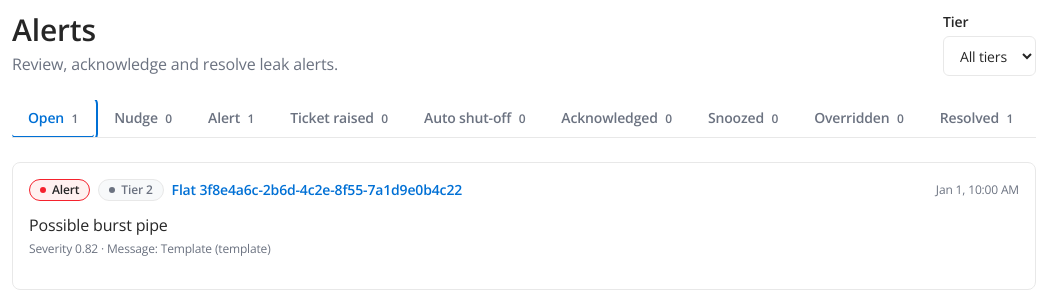
Test case: AlertsView › has an accessible tablist with arrow-key navigation and a labelled tabpanel
Expected: the text "Possible burst pipe" is shown, left=29, top=214, right=168, bottom=236
Press Arrowright
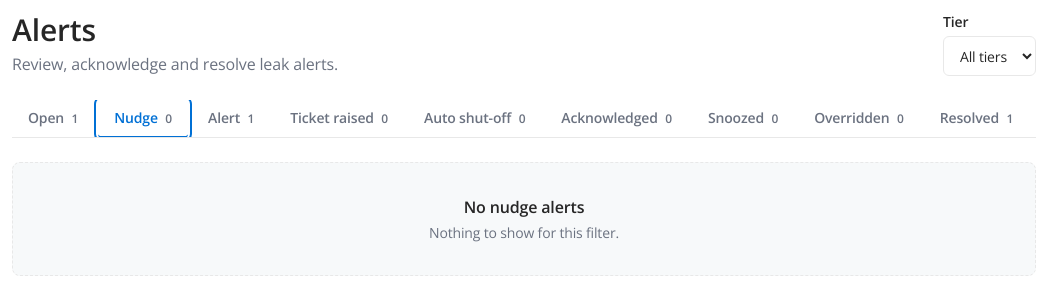
Result: the tab "Nudge 0" is selected at left=98, top=100, right=188, bottom=138
Click the tab "Resolved 1": (976, 119) left=924, top=100, right=1029, bottom=138
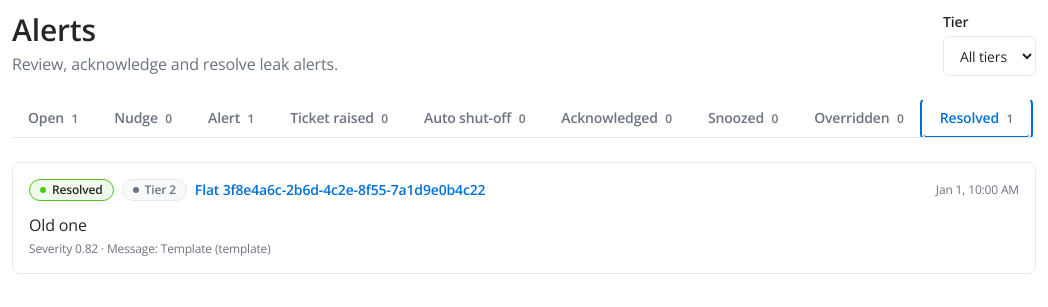
Expected: the text "Possible burst pipe" is not shown
Result: the text "Old one" is shown at left=29, top=214, right=87, bottom=236
